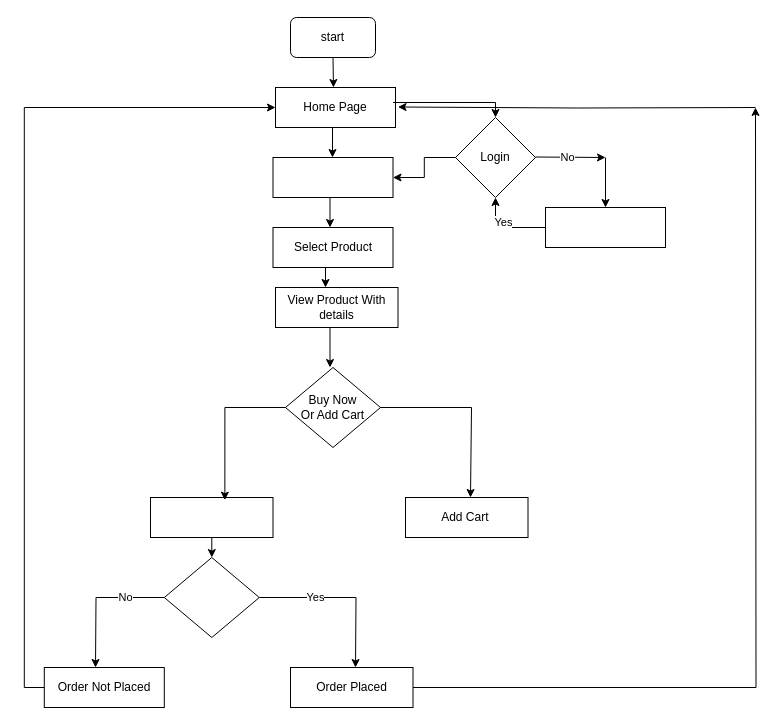
The diagram is 782 pixels wide and 725 high, and some of its shapes have lost their labels. Each missing label, with the centre of its shape:
Buy Now: [211,517]
Payment: [211,597]
Register: [605,227]
Search Product: [332,177]
